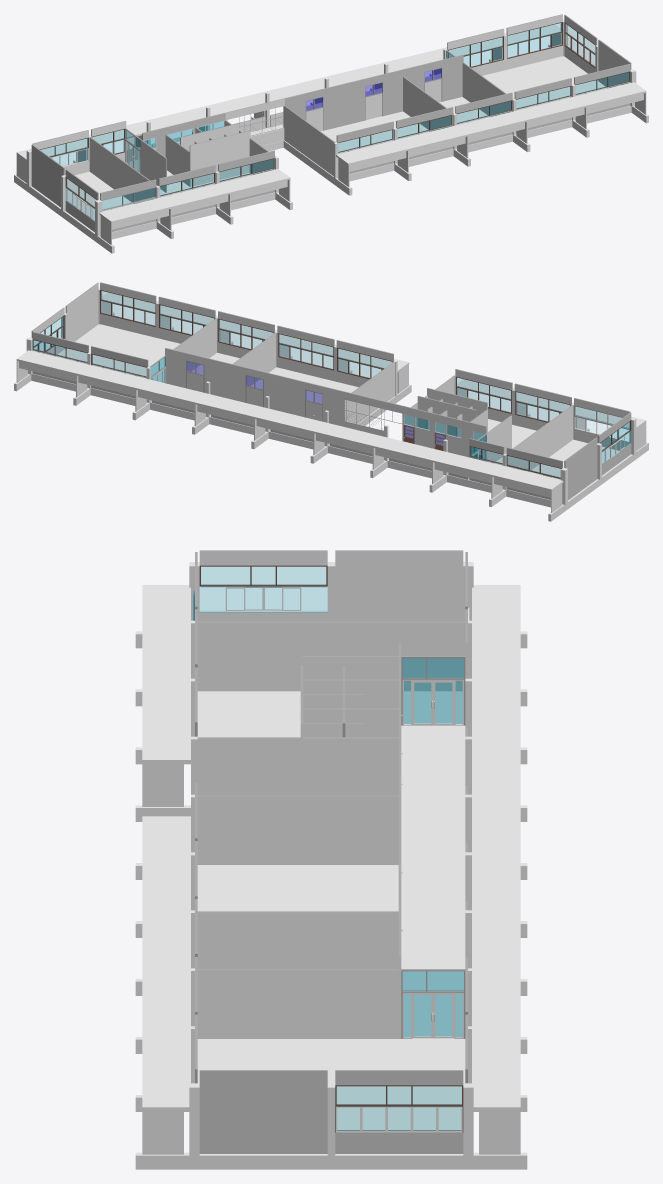
3 renders of one model, top to bottom at view 1: azimuth 30°, elevation 25°; view 2: azimuth 150°, elevation 25°; view 3: azimuth 270°, elevation 25°, orthographic. The views are drawn at different scales.
Parts seen in each view (by area): view 1: EN1060201, EN1060205, EN1060203, EN1060299, EN1060204, EN1060202; view 2: EN1060299, EN1060201, EN1060205, EN1060203, EN1060204, EN1060202; view 3: EN1060201, EN1060205, EN1060299, EN1060203, EN1060204, EN1060202.
Part boxes in pixels (left/top/right/bottom): EN1060201: left=14, top=121, right=292, bottom=253; EN1060205: left=429, top=14, right=648, bottom=151; EN1060203: left=283, top=70, right=469, bottom=195; EN1060299: left=116, top=50, right=463, bottom=172; EN1060204: left=402, top=55, right=529, bottom=166; EN1060202: left=165, top=113, right=242, bottom=187; EN1060299: left=136, top=348, right=487, bottom=492; EN1060201: left=427, top=369, right=648, bottom=521; EN1060205: left=14, top=282, right=227, bottom=420; EN1060203: left=246, top=325, right=411, bottom=425; EN1060204: left=173, top=311, right=292, bottom=386; EN1060202: left=404, top=388, right=487, bottom=451; EN1060201: left=135, top=550, right=527, bottom=821; EN1060205: left=135, top=957, right=527, bottom=1169; EN1060299: left=398, top=643, right=527, bottom=1053; EN1060203: left=135, top=783, right=402, bottom=968; EN1060204: left=135, top=899, right=401, bottom=1053; EN1060202: left=303, top=666, right=401, bottom=807.
Size of what is drawn, in the model's own units: 47.65 by 4.1 by 15.
